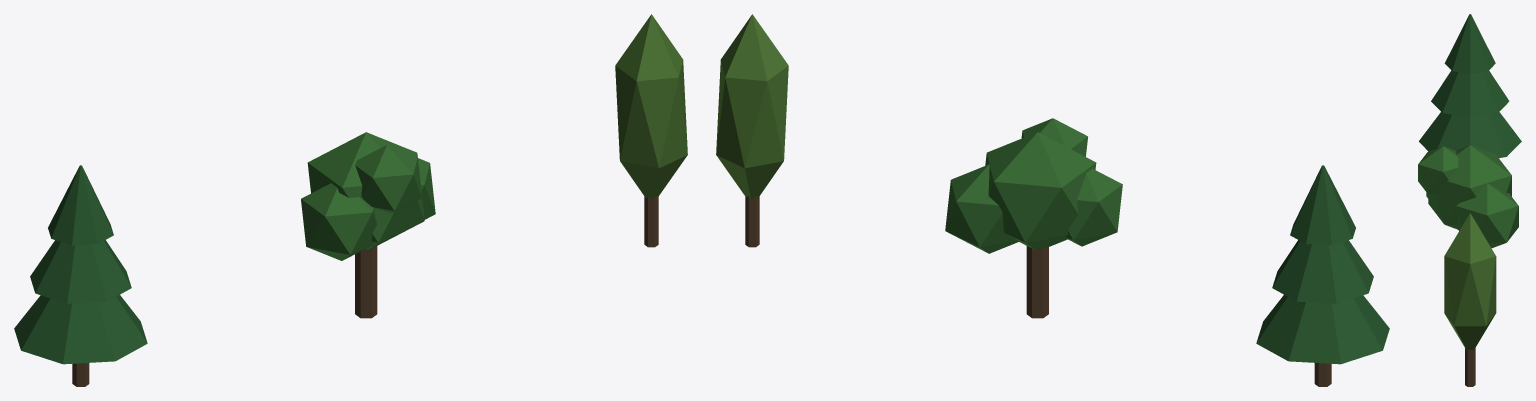
File: trees.glb
3 renders of one model, left to right at view 1: azimuth 30°, elevation 25°; view 2: azimuth 150°, elevation 25°; view 3: azimuth 270°, elevation 25°, orthographic. The views are drawn at different scales.
Visible parts, largest first — view 1: tree_conifer, tree_oak, tree_poplar; view 2: tree_oak, tree_conifer, tree_poplar; view 3: tree_conifer, tree_oak, tree_poplar.
Boxes of the visible parts, bbox=[...] form: tree_conifer: bbox=[14, 165, 147, 386]; tree_oak: bbox=[301, 132, 435, 318]; tree_poplar: bbox=[615, 14, 687, 247]; tree_oak: bbox=[945, 118, 1122, 318]; tree_conifer: bbox=[1256, 165, 1389, 386]; tree_poplar: bbox=[716, 14, 788, 247]; tree_conifer: bbox=[1419, 14, 1521, 158]; tree_oak: bbox=[1418, 145, 1518, 248]; tree_poplar: bbox=[1444, 213, 1496, 386].
Bounding box in the file's own units: 11.6 × 3.86 × 2.11.
